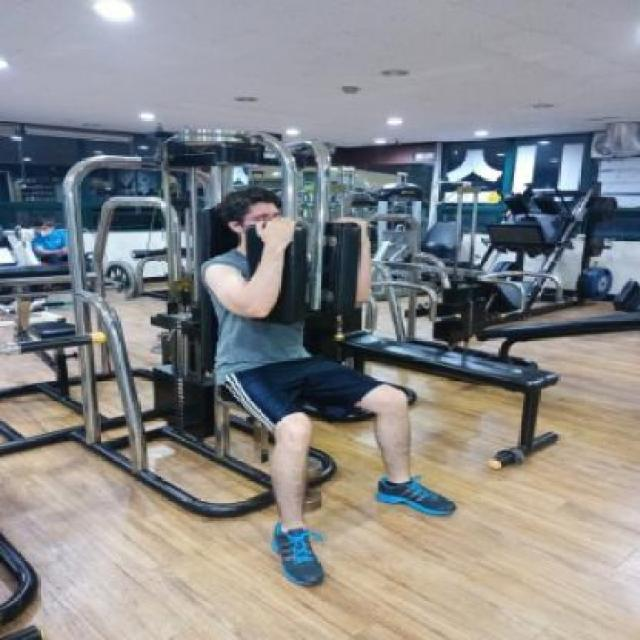chest fly machine: (63, 98, 568, 597)
